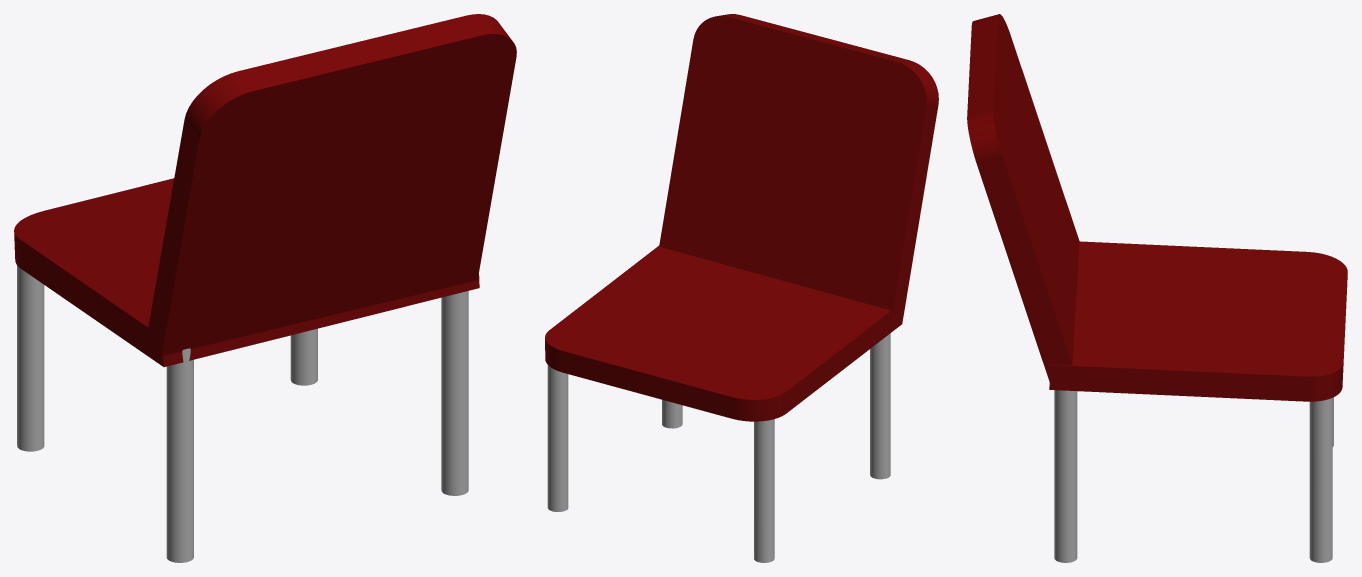
Rendered from chair.fbx.
The picture shows the model from 3 angles, left to right: view 1: azimuth 30°, elevation 25°; view 2: azimuth 150°, elevation 25°; view 3: azimuth 270°, elevation 25°; orthographic projection. The views are drawn at different scales.
Parts seen in each view (by area): view 1: pCube1, pasted__pCube1, pasted__pPipe1, pasted__pasted__pPipe1, pPipe1, pasted__pasted__pasted__pPipe1; view 2: pCube1, pasted__pCube1, pasted__pasted__pasted__pPipe1, pPipe1, pasted__pPipe1, pasted__pasted__pPipe1; view 3: pasted__pCube1, pCube1, pasted__pasted__pPipe1, pasted__pasted__pasted__pPipe1.
Part boxes in pixels (<box>): pCube1: <box>145,14,516,363</box>; pasted__pCube1: <box>14,178,479,366</box>; pasted__pPipe1: <box>166,348,193,562</box>; pasted__pasted__pPipe1: <box>441,291,468,495</box>; pPipe1: <box>17,265,44,451</box>; pasted__pasted__pasted__pPipe1: <box>290,328,317,385</box>; pCube1: <box>659,14,938,325</box>; pasted__pCube1: <box>545,245,902,421</box>; pasted__pasted__pasted__pPipe1: <box>547,365,568,511</box>; pPipe1: <box>754,419,774,562</box>; pasted__pPipe1: <box>870,333,890,479</box>; pasted__pasted__pPipe1: <box>662,399,682,428</box>; pasted__pCube1: <box>1049,241,1347,401</box>; pCube1: <box>967,14,1079,381</box>; pasted__pasted__pPipe1: <box>1054,390,1077,562</box>; pasted__pasted__pasted__pPipe1: <box>1309,398,1332,562</box>.
Size of the model in its own units: 3.19 by 4.84 by 3.83.
